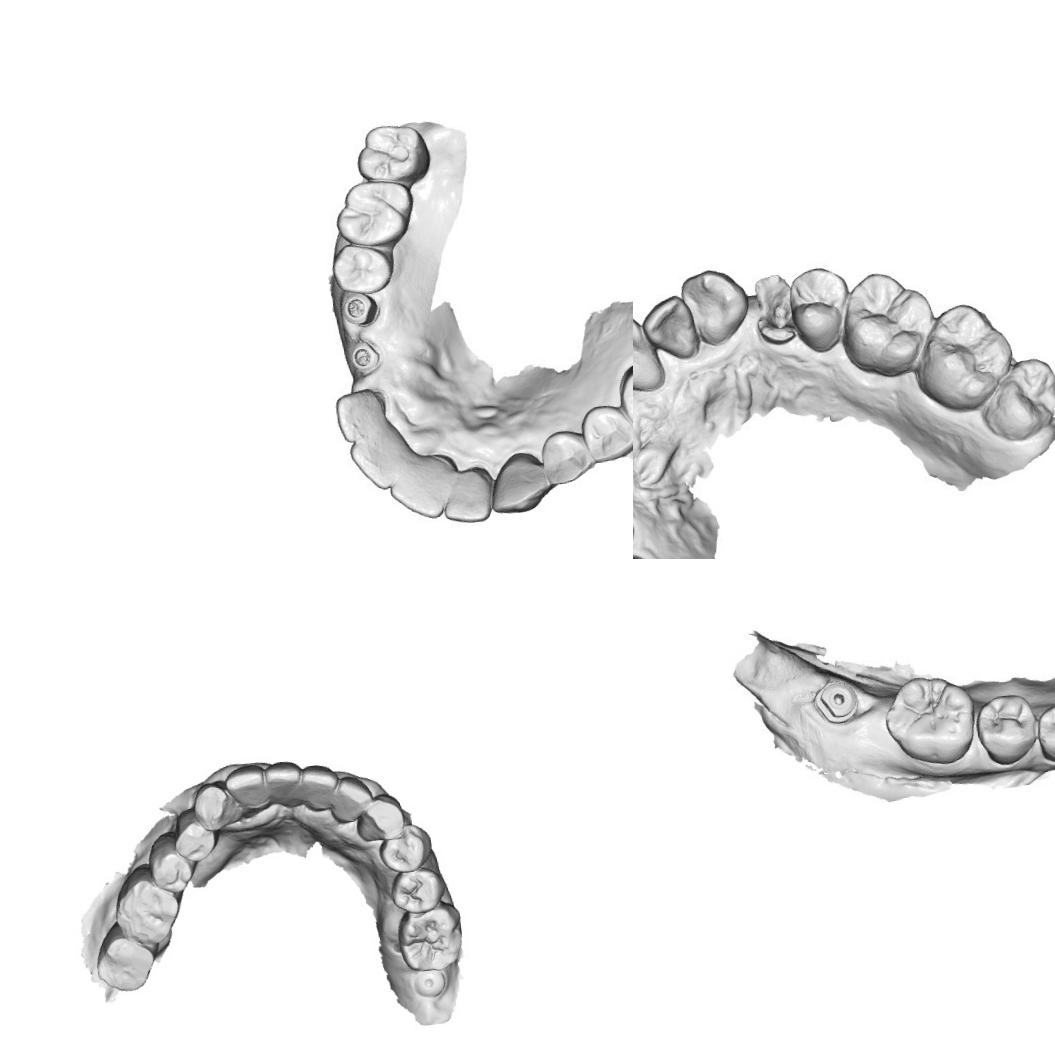canine: (679, 267, 754, 349), (486, 447, 553, 518), (352, 790, 408, 844), (190, 779, 244, 834)
implant: (807, 674, 866, 731), (338, 290, 374, 328), (409, 966, 448, 1000), (349, 338, 382, 375)
incisor: (386, 464, 452, 524), (333, 387, 396, 449), (648, 297, 702, 365), (348, 434, 404, 494), (440, 468, 496, 526), (326, 771, 376, 828), (222, 762, 272, 814), (633, 314, 664, 391), (298, 760, 342, 814), (264, 758, 306, 810)
molar: (839, 268, 941, 376), (918, 302, 1016, 410), (887, 671, 978, 769), (110, 858, 188, 954), (331, 176, 415, 250), (984, 355, 1055, 439), (351, 120, 433, 188), (393, 899, 466, 974), (90, 917, 158, 995)
premolar: (778, 262, 853, 358), (979, 692, 1038, 766), (330, 240, 396, 298), (578, 401, 633, 466), (539, 427, 596, 488), (144, 826, 196, 892), (376, 820, 436, 876), (387, 864, 449, 917), (170, 803, 220, 864), (1037, 700, 1055, 769)
